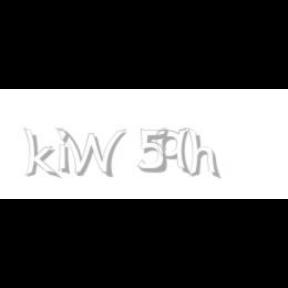5: (138, 128, 168, 174)
W: (55, 128, 127, 178)
h: (188, 128, 222, 180)
i: (57, 128, 73, 176)
k: (23, 128, 61, 180)
q: (156, 128, 192, 176)
